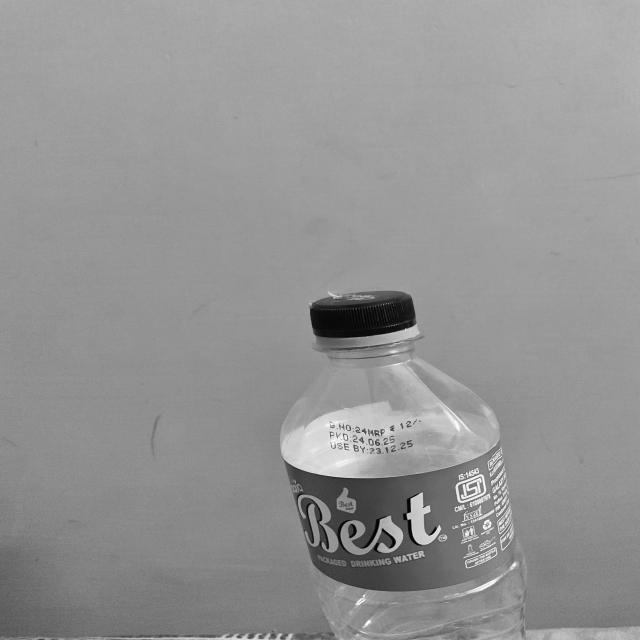Good-cap-Df0S: (305, 288, 430, 348)
